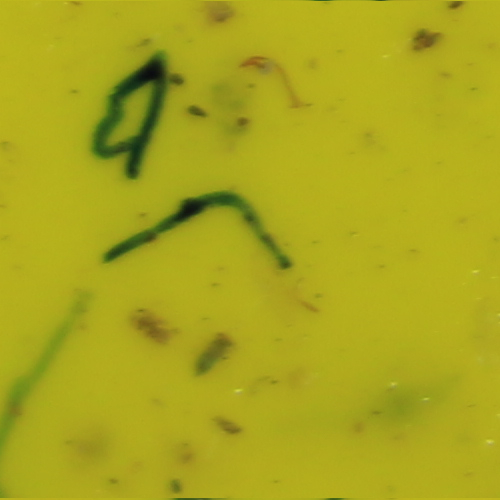psylla: (190, 330, 235, 377)
